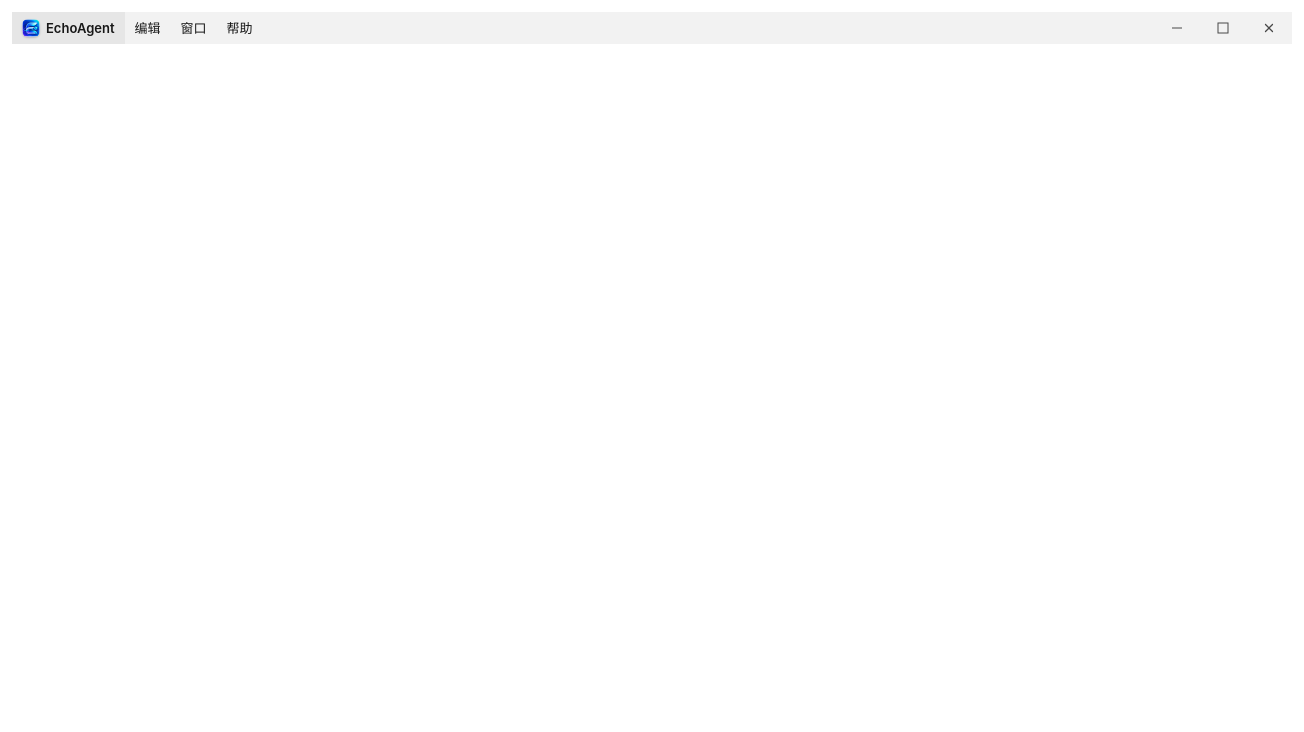
it: TitleBar › 点击 backdrop 收起菜单
The width and height of the screenshot is (1304, 732).
What coordinates should you click on to do the following:
click the button "编辑"
I would click on:
 (148, 28)
Its box is left=124, top=12, right=170, bottom=44.
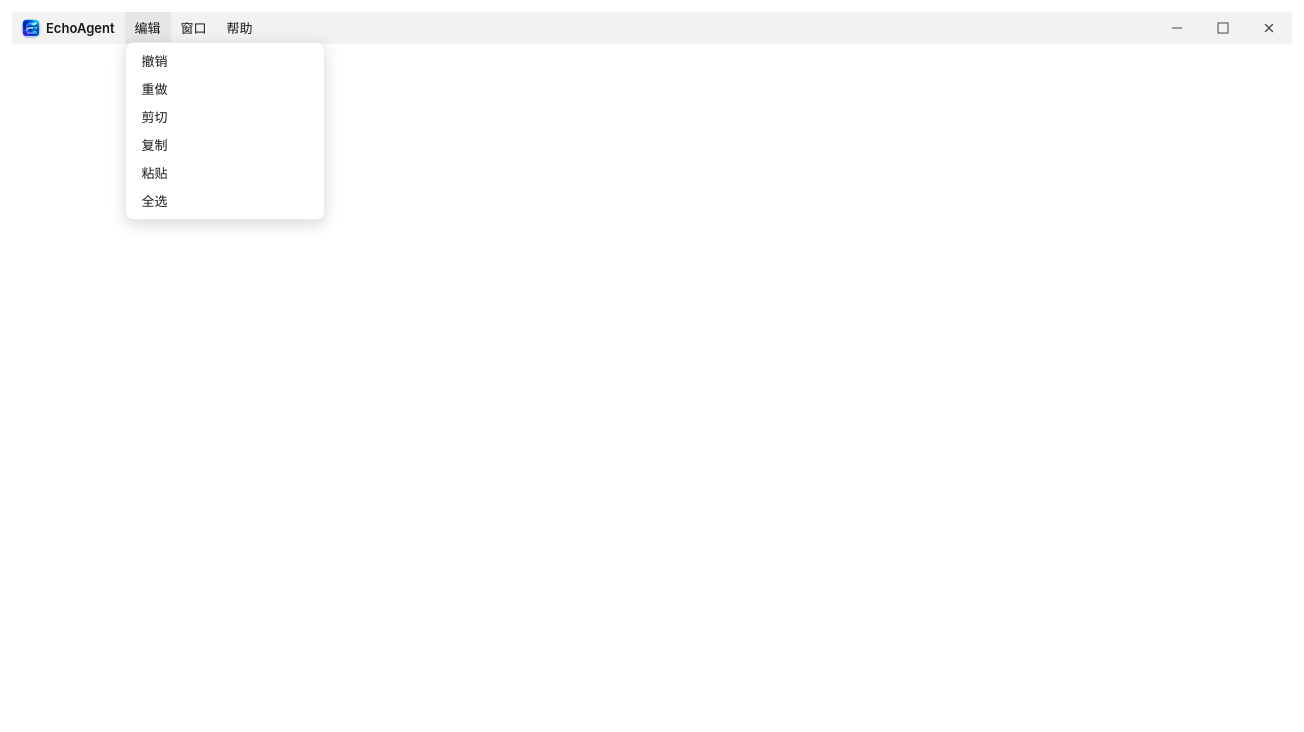
What coordinates should you click on to do the following:
click the element with class "titlebar__backdrop"
I would click on:
 (652, 372)
Its box is left=12, top=12, right=1292, bottom=731.
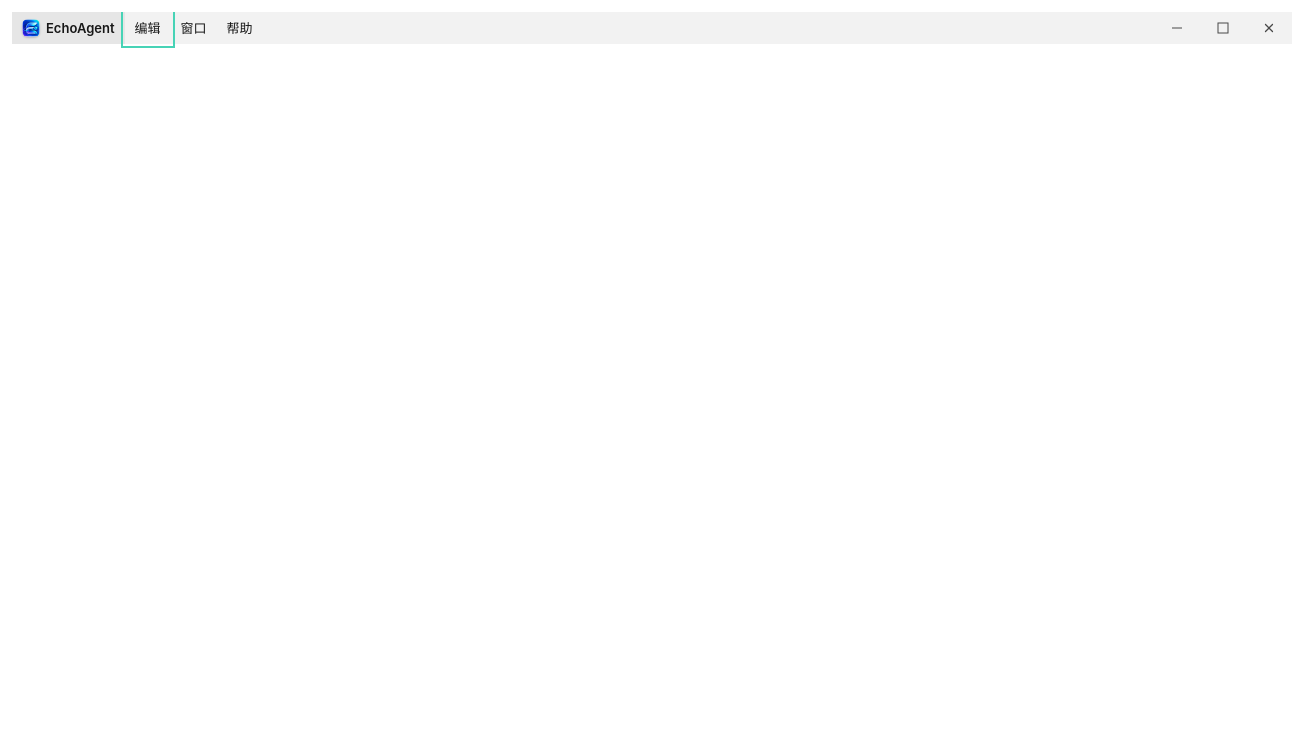
Now the menu item "复制" is gone
